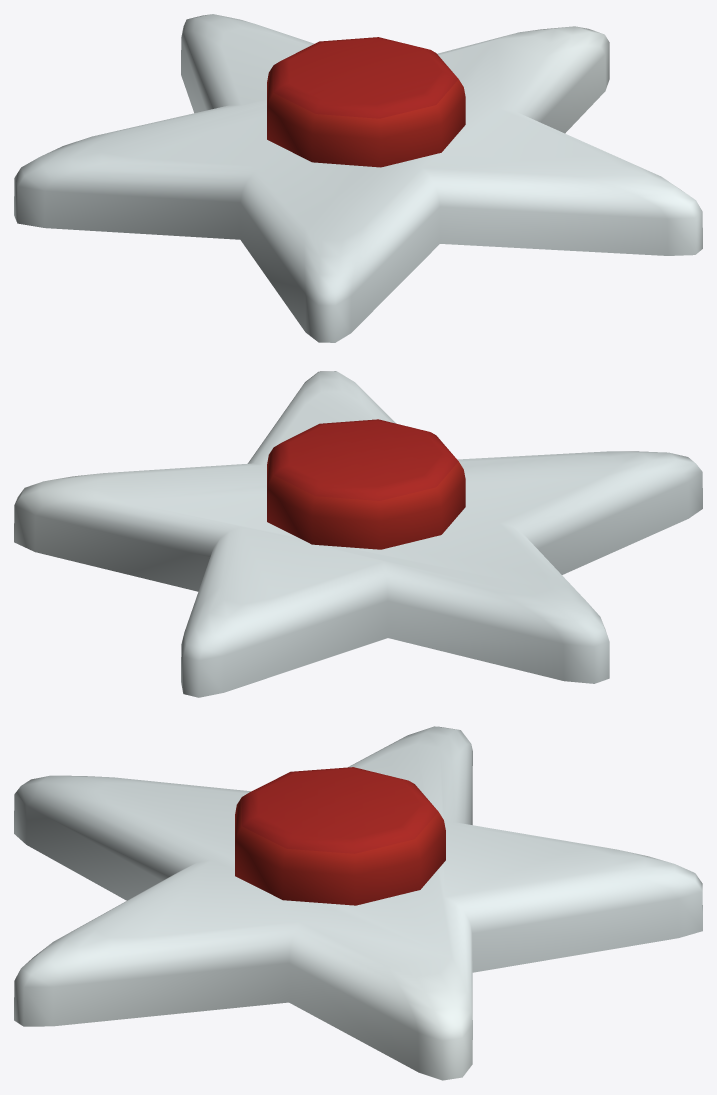
The model's file is flower.fbx.
The picture shows the model from 3 angles, top to bottom: view 1: azimuth 30°, elevation 25°; view 2: azimuth 150°, elevation 25°; view 3: azimuth 270°, elevation 25°; orthographic projection. The views are drawn at different scales.
Parts seen in each view (by area): view 1: Vert, Cylinder; view 2: Vert, Cylinder; view 3: Vert, Cylinder.
Part boxes in pixels (box(x1,y1,x2,y2)): Vert: box(14, 14, 702, 342); Cylinder: box(267, 37, 465, 167); Vert: box(14, 371, 702, 697); Cylinder: box(267, 419, 465, 549); Vert: box(14, 726, 702, 1080); Cylinder: box(235, 767, 445, 905).
Bounding box in the file's own units: 535 × 100 × 507.
1 material, 1 textured.
